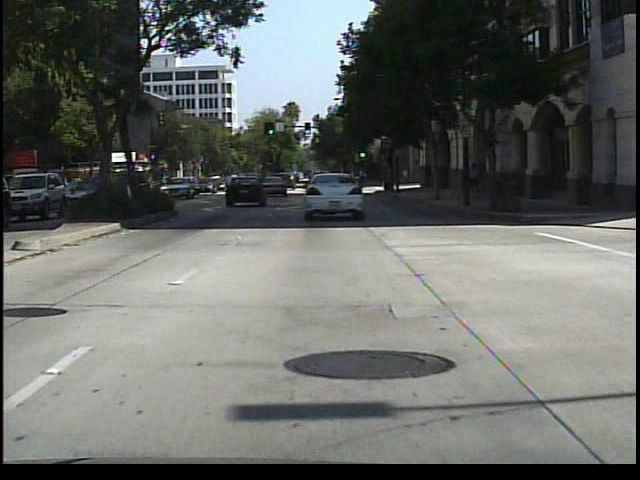person: (465, 160, 484, 205)
